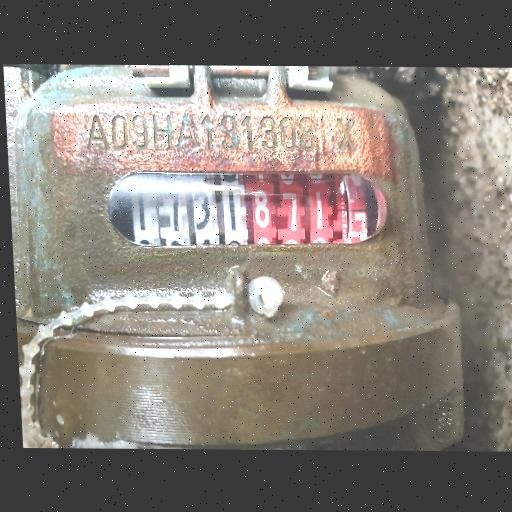1: (130, 171, 162, 247), (219, 174, 249, 246), (306, 174, 333, 244)
3: (186, 172, 217, 247)
6: (329, 173, 370, 244)
7: (155, 171, 190, 246), (273, 173, 307, 245)
8: (245, 173, 279, 245)
border_water_meter_number: (105, 165, 391, 251)
